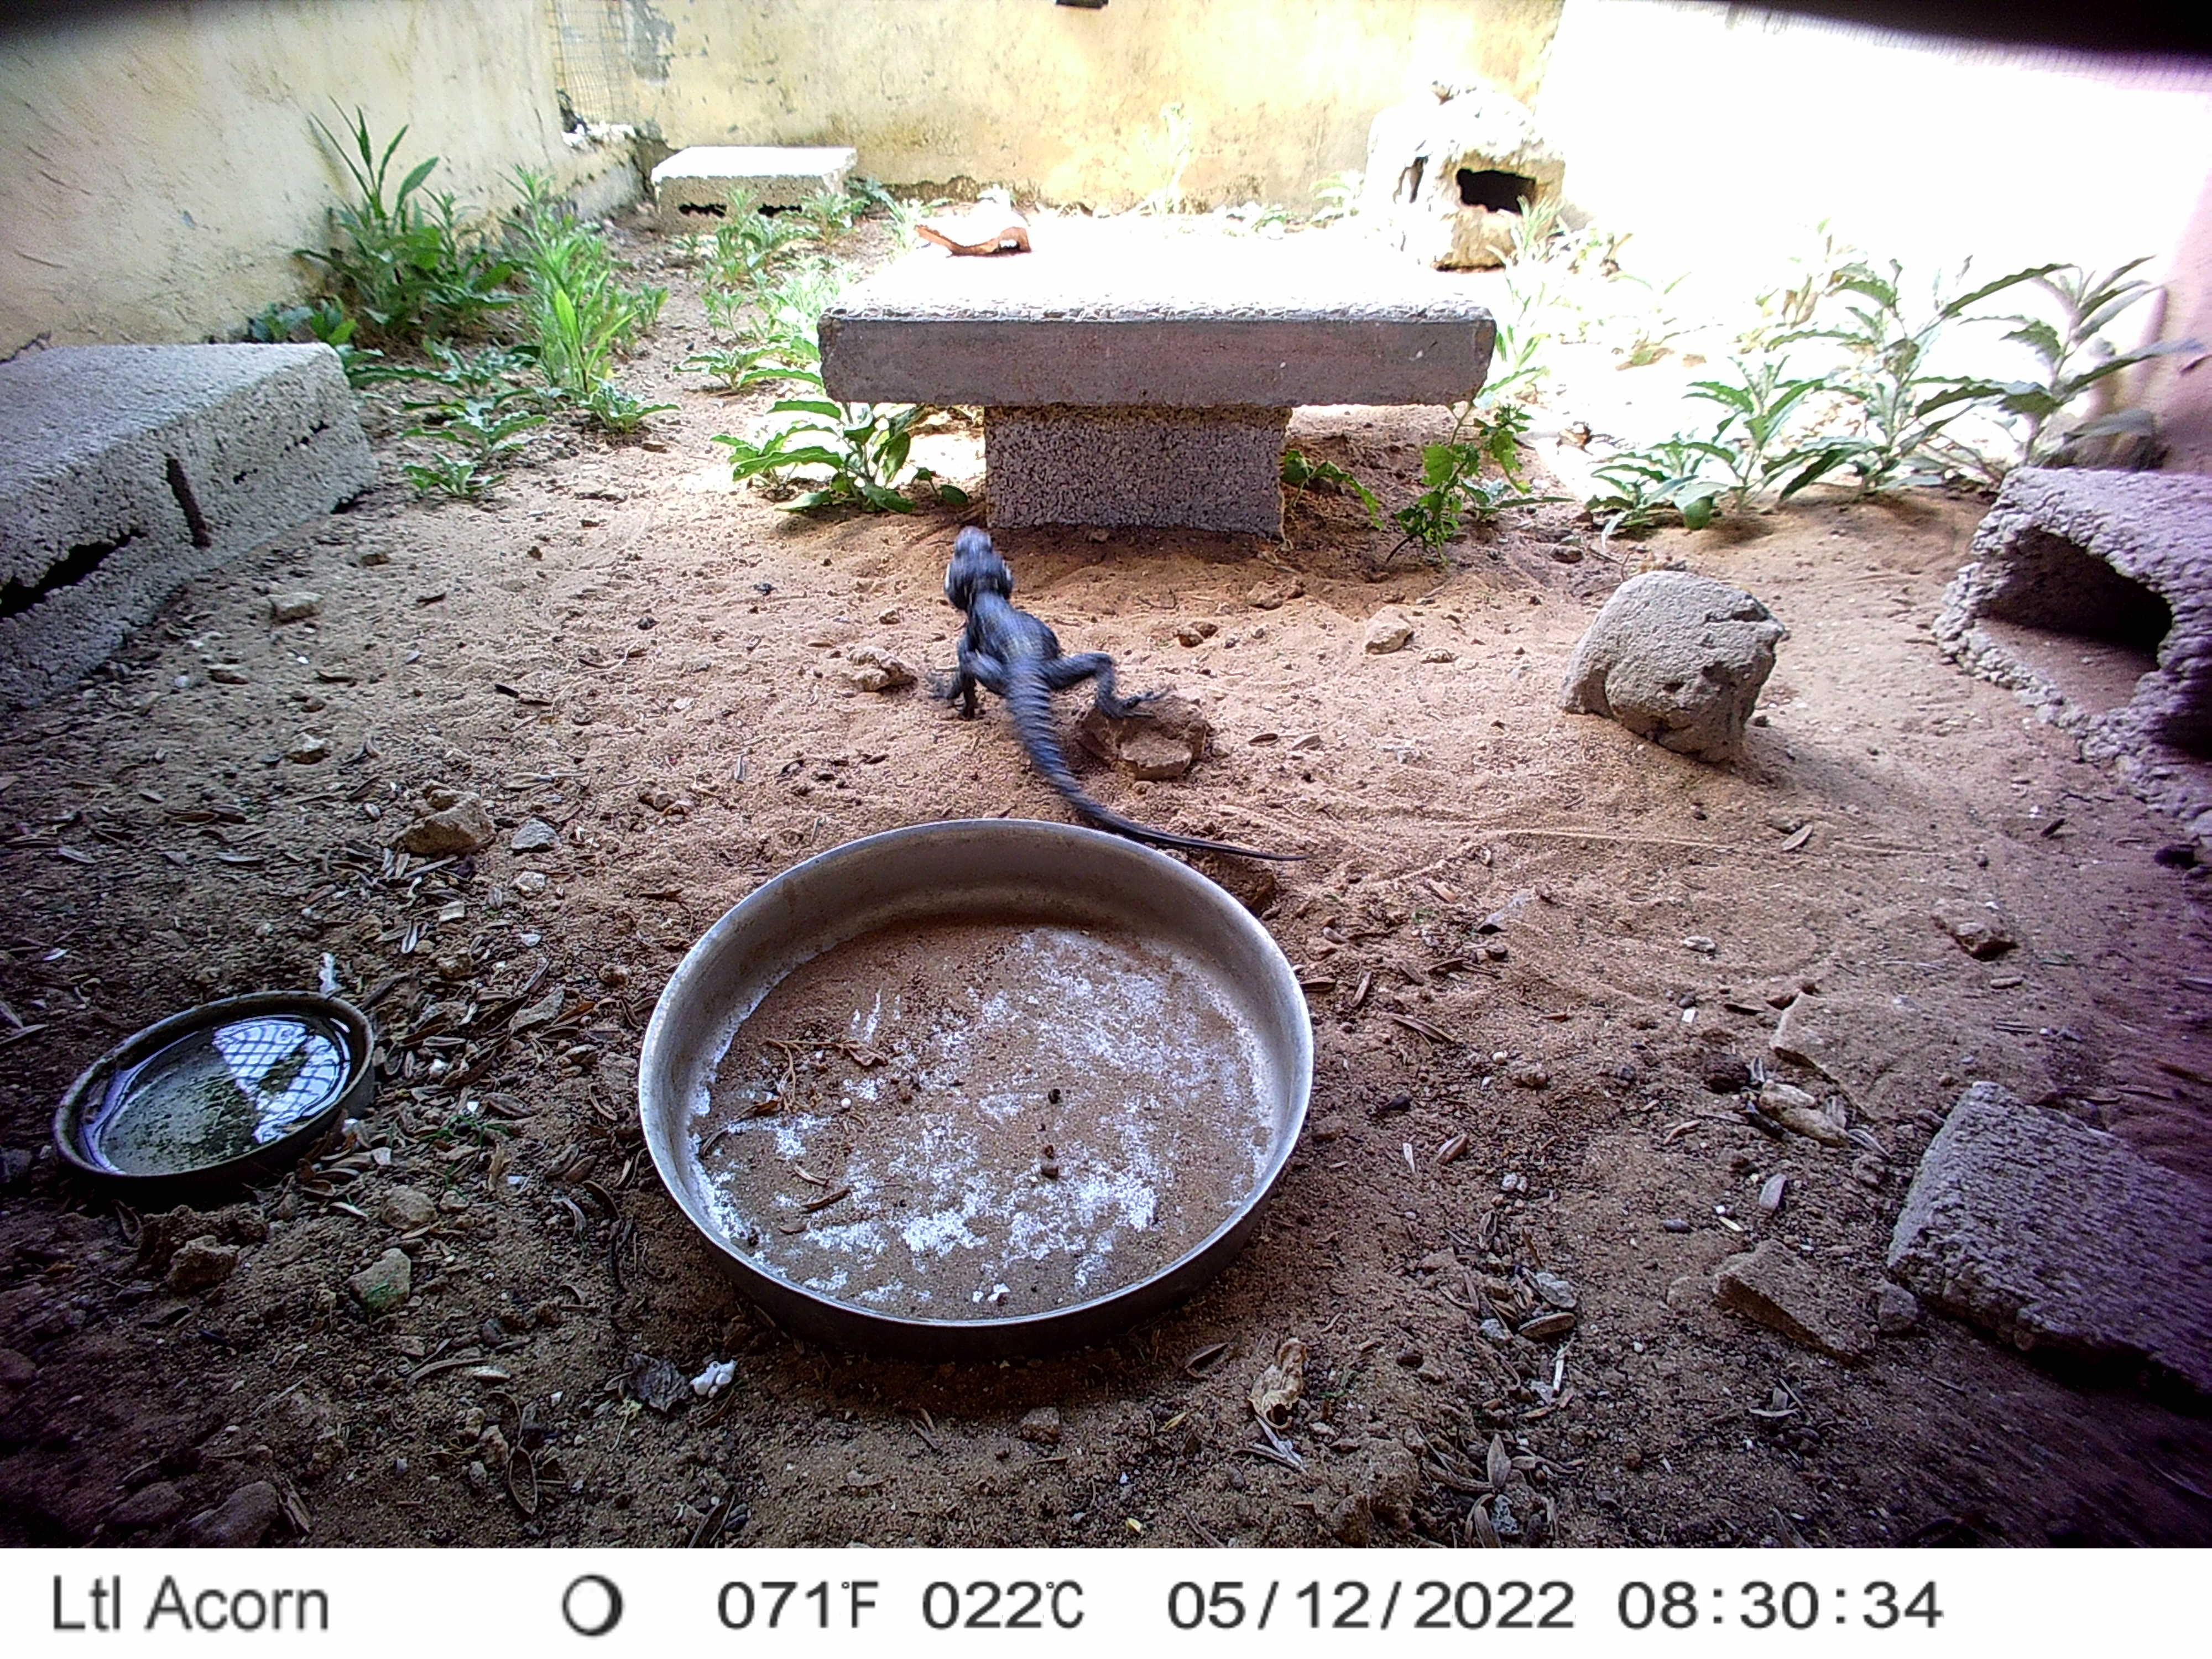lizard: (921, 526, 1352, 897)
